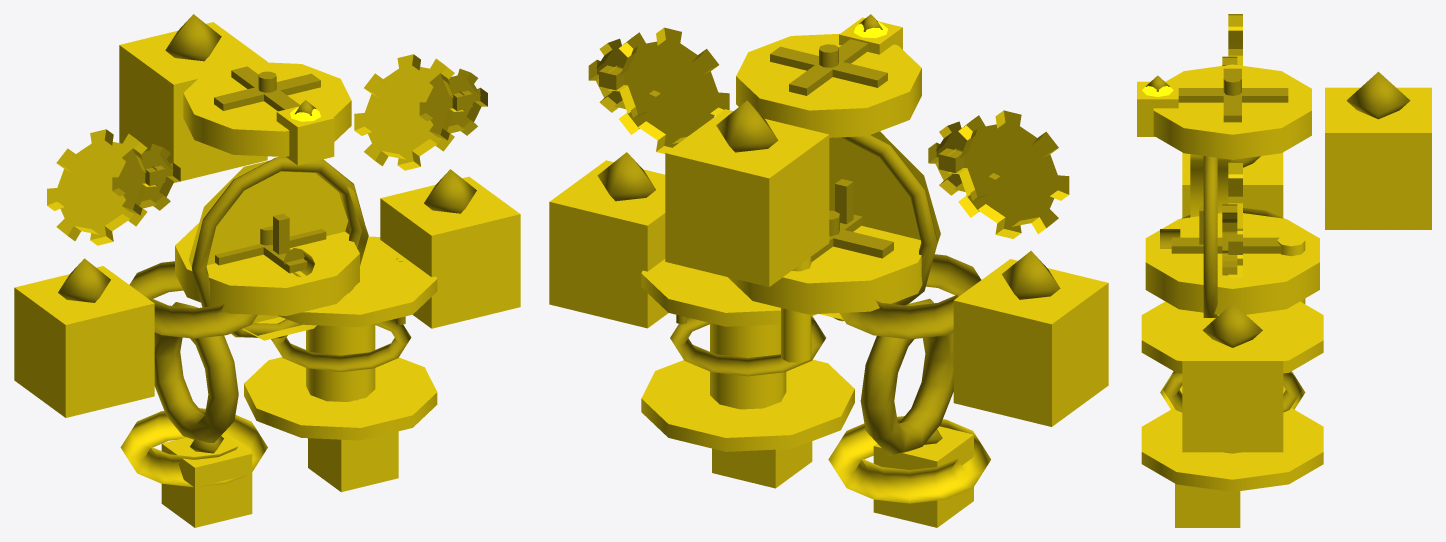
Rendered from golem_010.glb.
3 renders of one model, left to right at view 1: azimuth 30°, elevation 25°; view 2: azimuth 150°, elevation 25°; view 3: azimuth 270°, elevation 25°, orthographic. The views are drawn at different scales.
Visible parts, largest first — view 1: Body, Detail; view 2: Body, Detail; view 3: Body, Detail.
Boxes of the visible parts, x1,y1,x2,y2 form: Body: [14, 22, 520, 527]; Detail: [58, 14, 487, 453]; Body: [549, 17, 1108, 527]; Detail: [588, 14, 1060, 456]; Body: [1137, 14, 1431, 527]; Detail: [1145, 56, 1410, 412].
Bounding box in the file's own units: 1.14 × 0.9936 × 0.6519.
